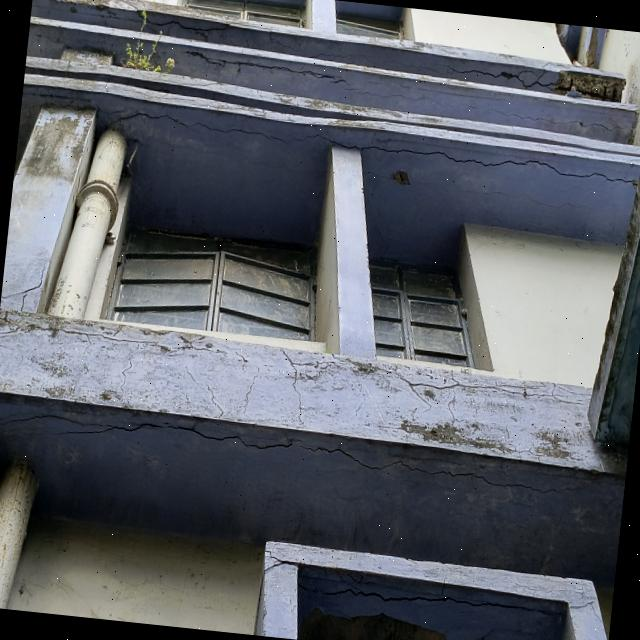Crack: (0, 412, 585, 498), (109, 107, 638, 193), (358, 89, 629, 134), (296, 581, 564, 616), (0, 321, 215, 354), (393, 371, 585, 407), (136, 10, 302, 51), (181, 49, 349, 87), (402, 61, 556, 91), (281, 349, 336, 423), (253, 548, 299, 634), (1, 256, 47, 312), (242, 374, 257, 418)
Moss growth due to damping: (0, 177, 640, 475), (16, 107, 94, 185), (118, 5, 189, 77)
Scaling: (393, 170, 409, 185)
Spalling: (553, 70, 625, 102)
